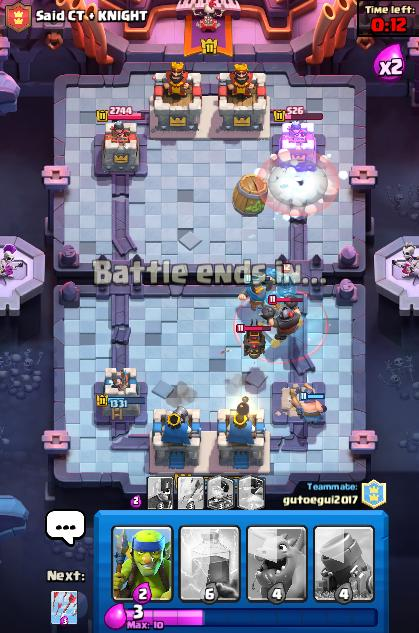EKingTower: (150, 62, 201, 132), (217, 63, 266, 131)
ELavaHound: (242, 320, 264, 358)
EMegaKnight: (275, 305, 300, 339)
EnemyPrincessTower: (101, 122, 138, 172), (278, 122, 315, 171)
OEx: (298, 391, 325, 424)
OGoblinBarrel: (233, 175, 267, 216)
OKnight: (246, 281, 265, 310)
OwnKingTower: (218, 397, 269, 469), (153, 406, 200, 469)
OwnPrincessTower: (95, 369, 145, 420)
TowerDown: (272, 382, 325, 424)
